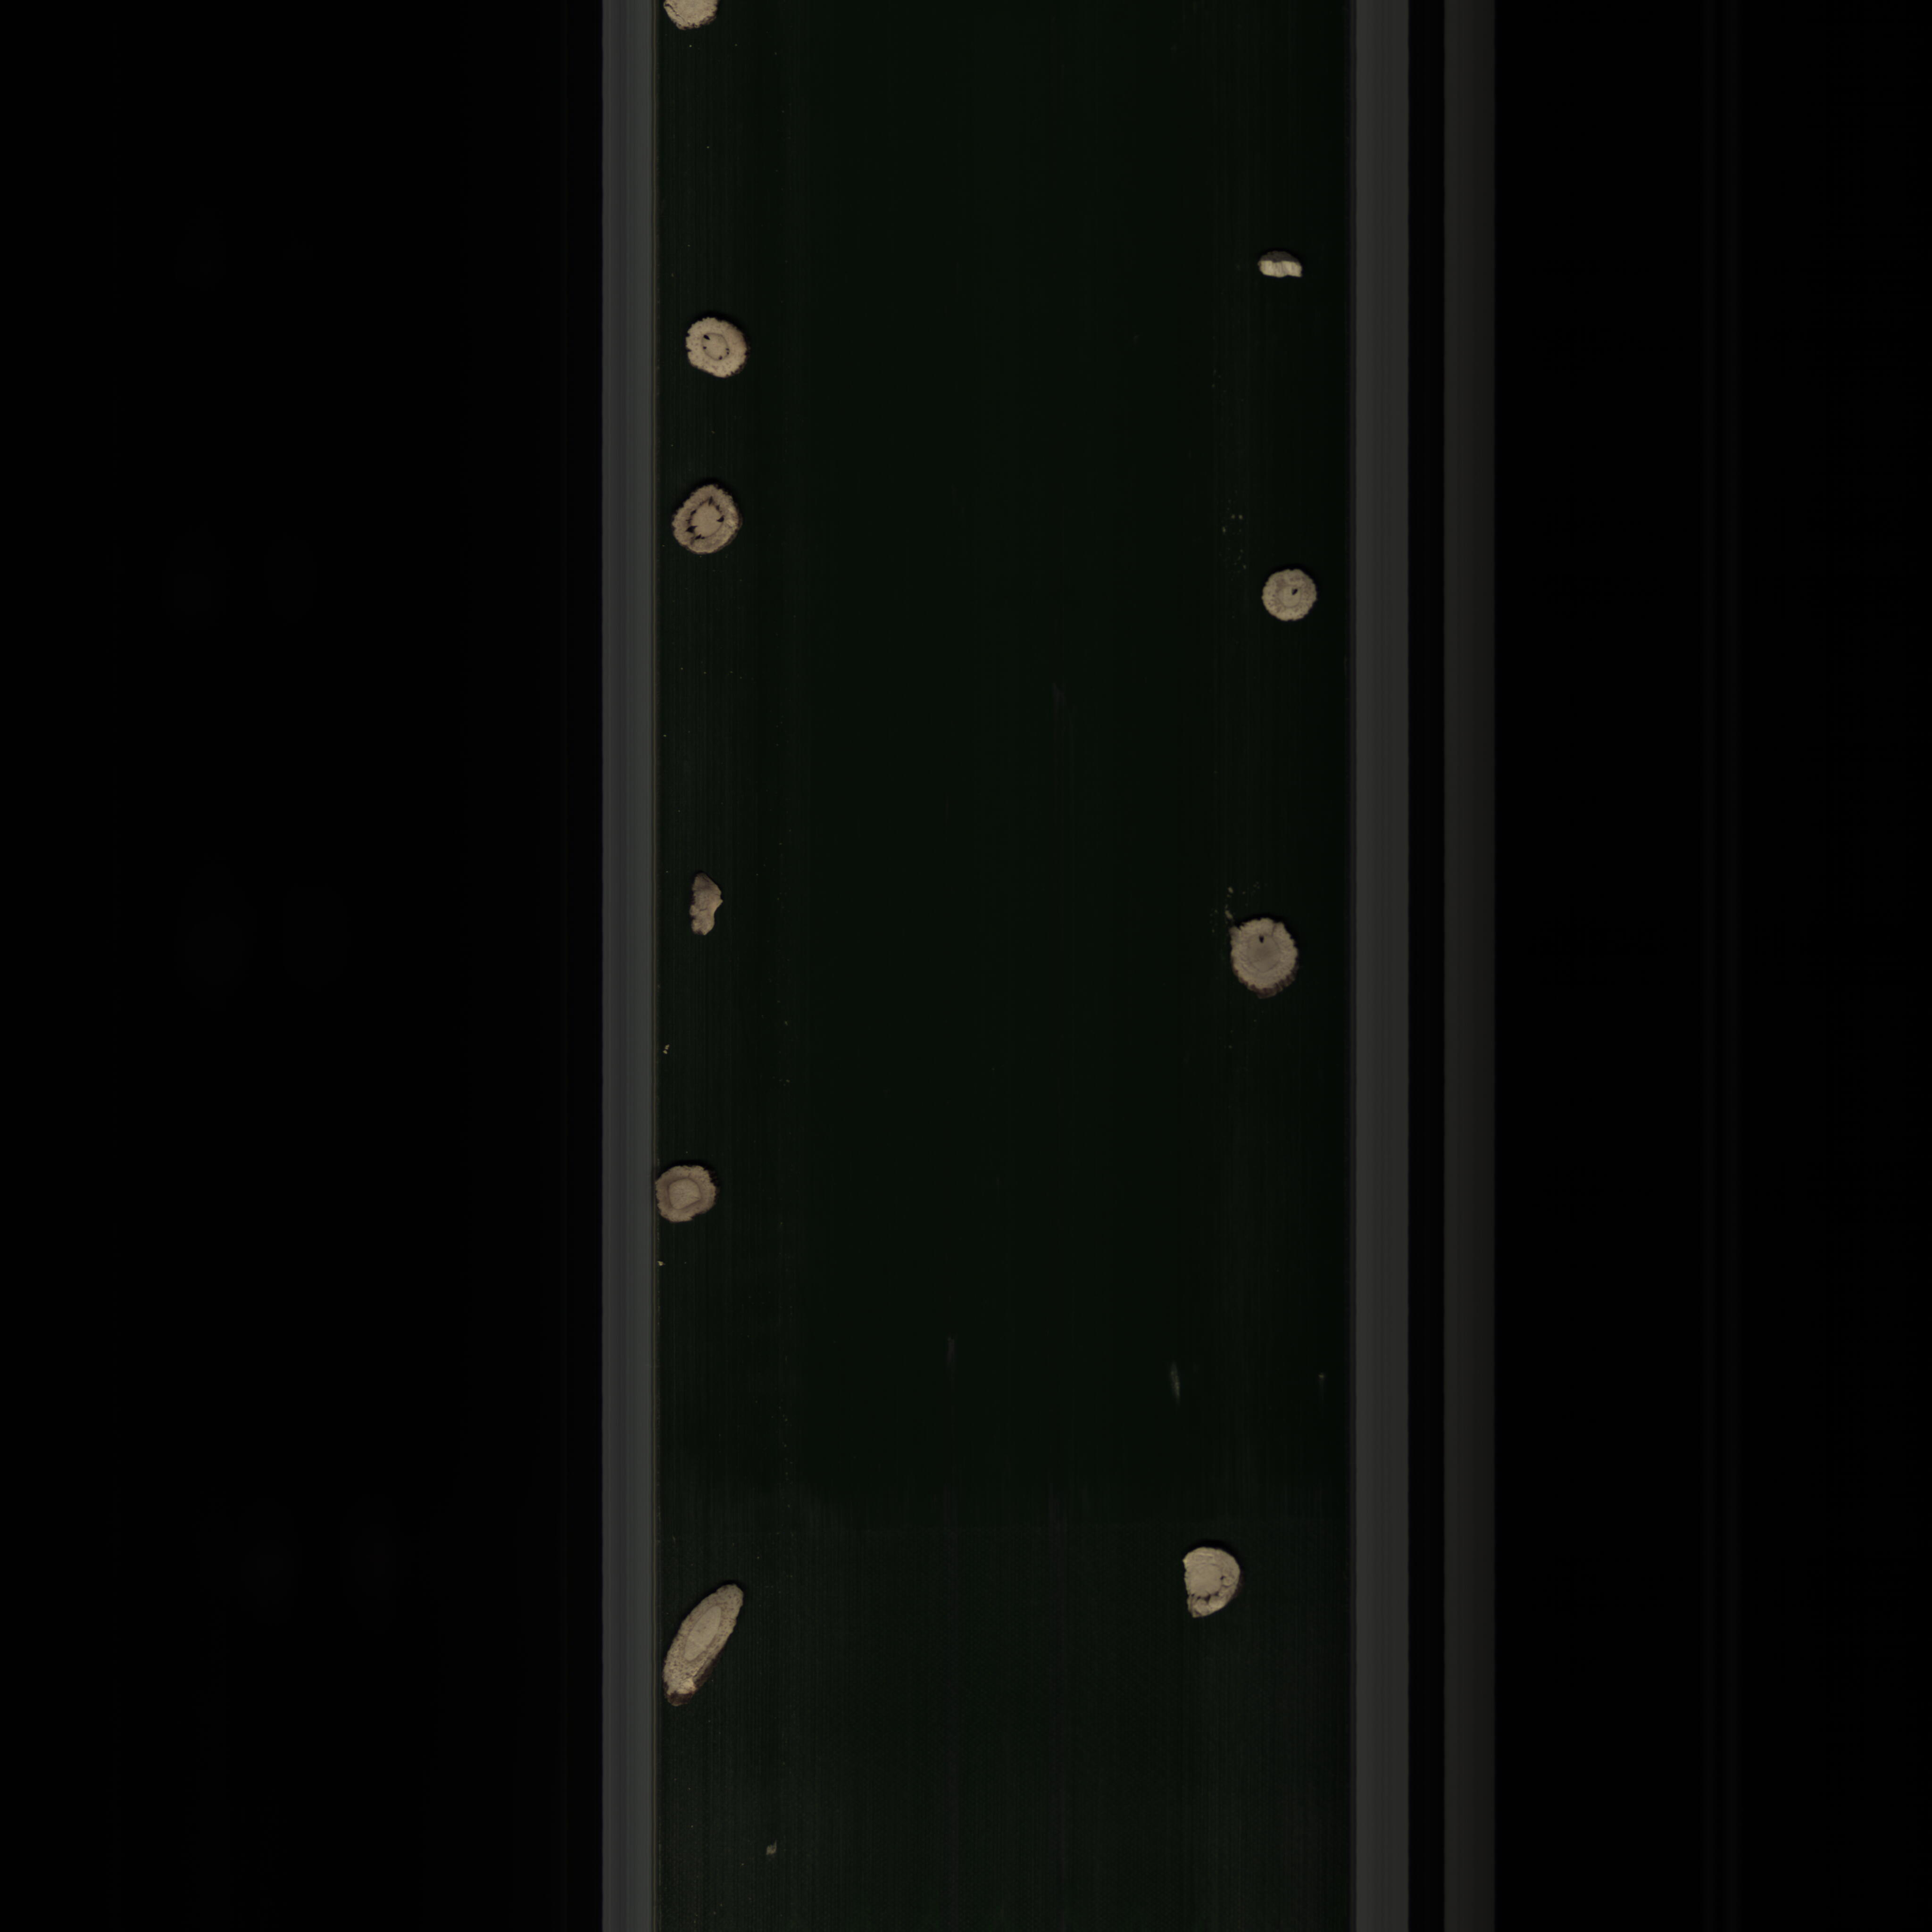debris: (1177, 1537, 1247, 1628), (683, 867, 738, 947), (1246, 235, 1313, 299)
distortion: (653, 1576, 750, 1730)
hole: (1210, 904, 1306, 1007), (658, 472, 757, 563), (676, 311, 755, 387), (1254, 564, 1336, 630)
